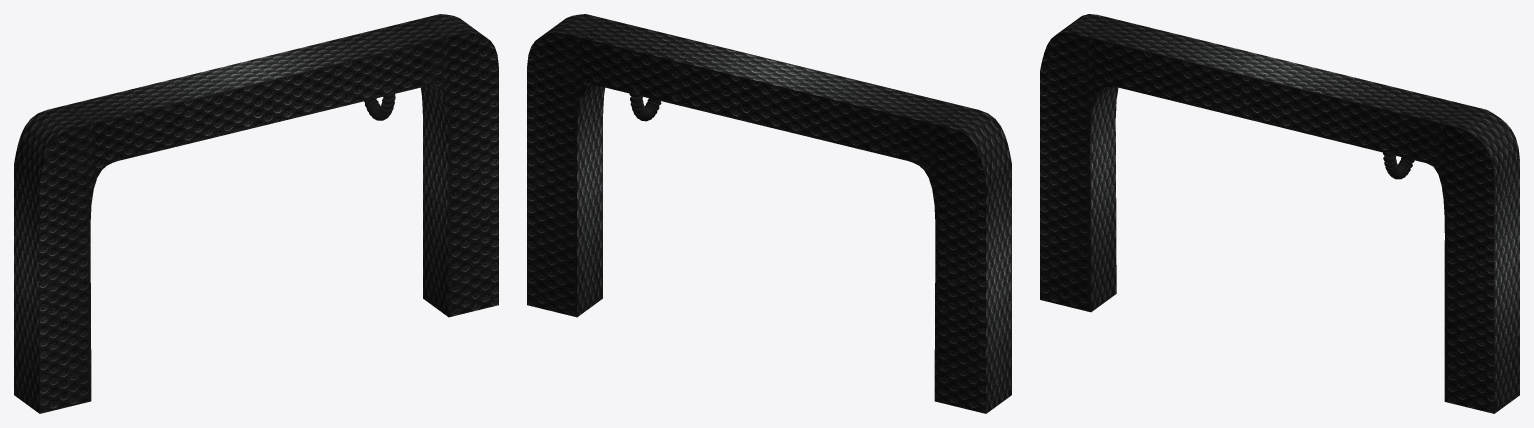
Rendered from arc-for-model.fbx.
3 views of the same model, side by side, from view 1: azimuth 30°, elevation 25°; view 2: azimuth 150°, elevation 25°; view 3: azimuth 330°, elevation 25° (orthographic).
Parts seen in each view (by area): view 1: Line001, Spring001; view 2: Line001, Spring001; view 3: Line001, Spring001.
Part boxes in pixels (<box>): Line001: <box>14,14,498,413</box>; Spring001: <box>364,92,395,120</box>; Line001: <box>527,14,1011,413</box>; Spring001: <box>629,85,661,121</box>; Line001: <box>1040,14,1519,413</box>; Spring001: <box>1383,152,1414,179</box>.
Bounding box in the file's own units: 268 × 156 × 28.06.
